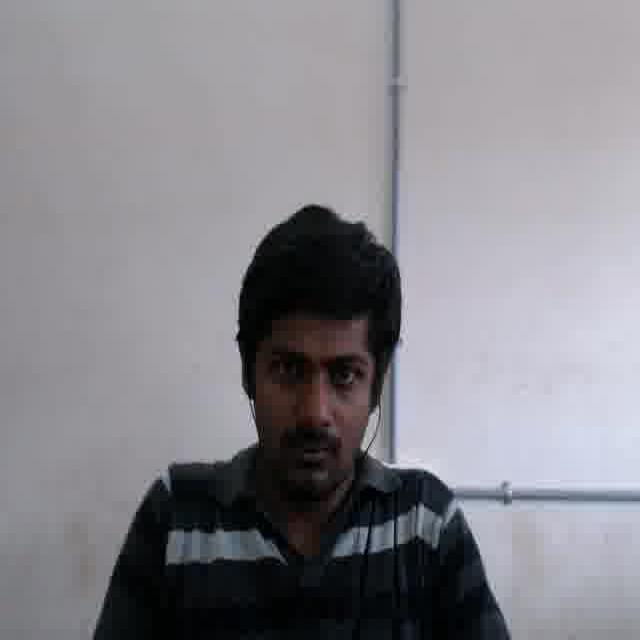Engaged: (250, 306, 370, 502)
